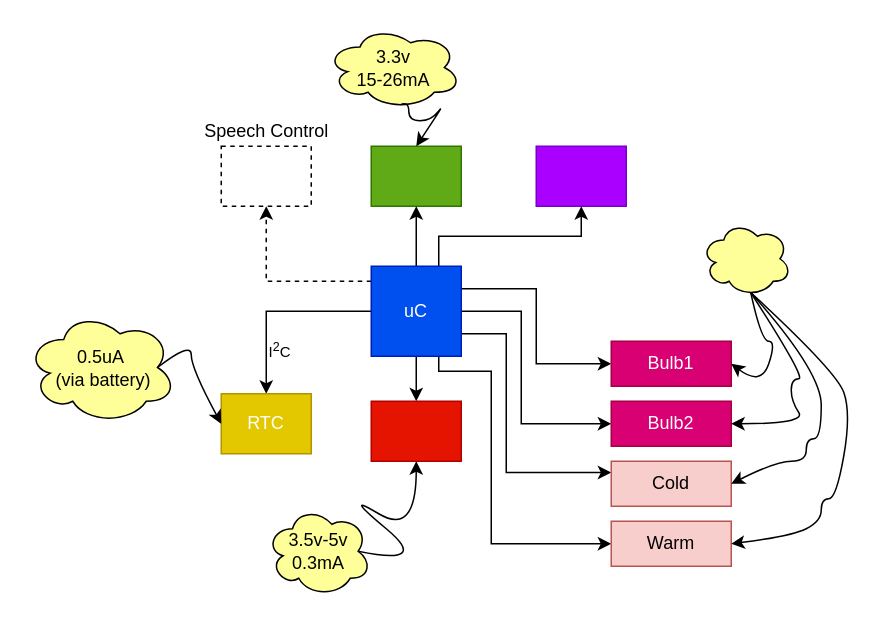
The diagram is 875 pixels wide and 623 high, and some of its shapes have lost their labels. The box of each missing label's shape, as (x1, y1, x2, y2) in pixels:
DHT22: (370, 400, 461, 461)
Relays: (700, 220, 791, 296)
RFID/NFC: (370, 145, 461, 206)
SPI Screen: (535, 145, 626, 206)
Voice Module: (220, 145, 311, 206)
